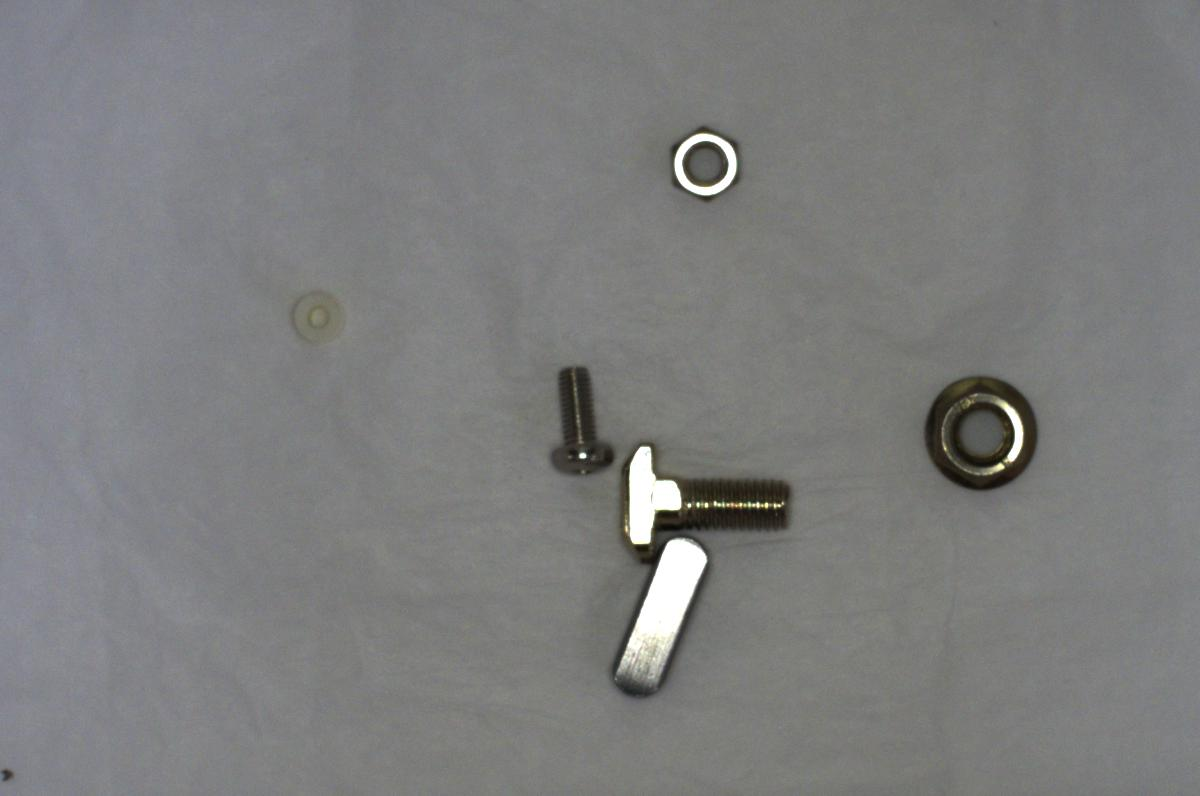Flange nut: (914, 369, 1056, 496)
Hexagon nut: (651, 117, 751, 205)
Keybar: (587, 539, 723, 706)
Plastic cushion pillar: (283, 276, 347, 346)
Round head screw: (532, 351, 614, 486)
T-shaped screw: (616, 436, 803, 559)
